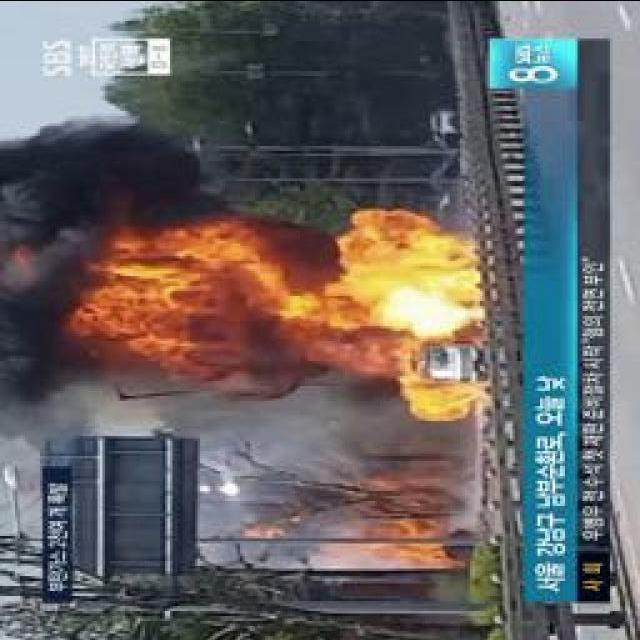Fire: (320, 207, 488, 358), (402, 360, 486, 426), (391, 544, 448, 565)
